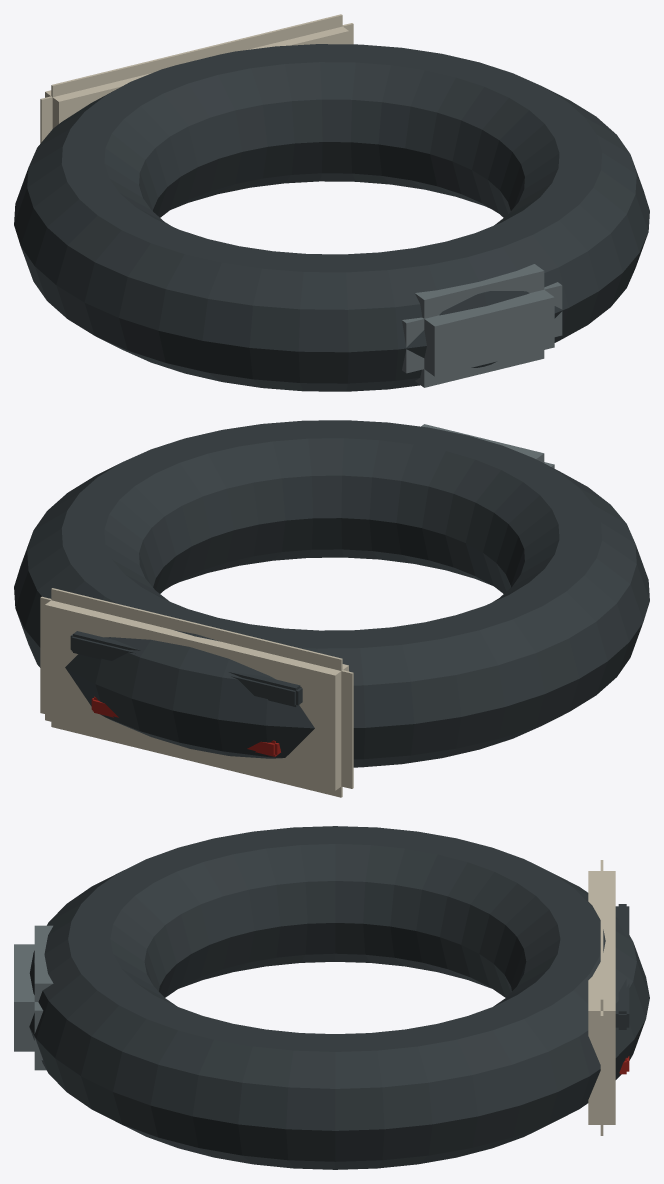
The model's file is OBJ-015_PulseraLazaro.fbx.
3 views of the same model, one above another, from view 1: azimuth 30°, elevation 25°; view 2: azimuth 150°, elevation 25°; view 3: azimuth 270°, elevation 25° (orthographic).
Parts seen in each view (by area): view 1: wrist_band, closure, identity_plate; view 2: wrist_band, identity_plate, printed_name_ESNEIDER, printed_date_2042_11_07; view 3: wrist_band, identity_plate, closure, printed_name_ESNEIDER.
Part boxes in pixels (left/top/right/bottom): wrist_band: left=14, top=44, right=649, bottom=391; closure: left=402, top=264, right=562, bottom=387; identity_plate: left=40, top=14, right=353, bottom=143; wrist_band: left=14, top=420, right=649, bottom=767; identity_plate: left=40, top=588, right=353, bottom=797; printed_name_ESNEIDER: left=70, top=631, right=302, bottom=706; printed_date_2042_11_07: left=91, top=696, right=280, bottom=756; wrist_band: left=29, top=826, right=649, bottom=1169; identity_plate: left=588, top=860, right=615, bottom=1135; closure: left=14, top=925, right=53, bottom=1070; printed_name_ESNEIDER: left=615, top=904, right=629, bottom=1029.
Size of the model in its own units: 0.092 by 0.022 by 0.093.
